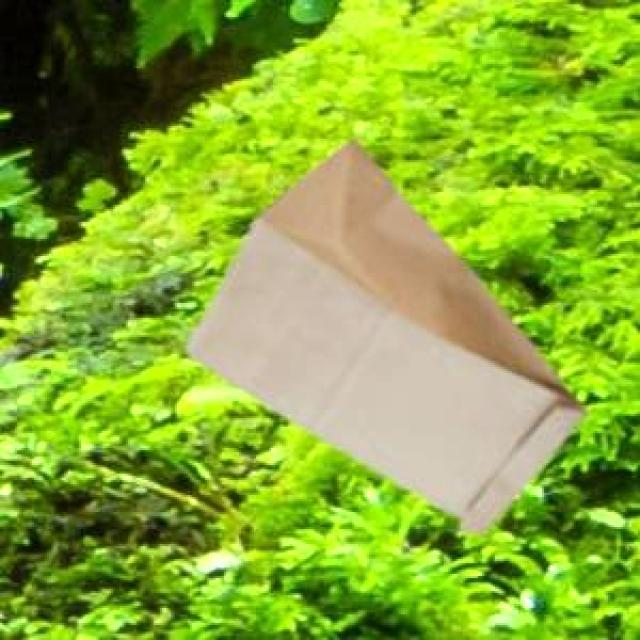Paper_Bag: (184, 138, 582, 530)
